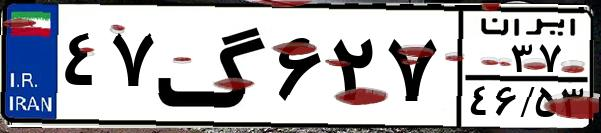2: (330, 28, 385, 110)
3: (560, 70, 590, 125), (508, 27, 537, 80)
4: (57, 26, 110, 100), (470, 70, 495, 125)
5: (535, 70, 560, 125)
6: (270, 28, 330, 110), (495, 70, 520, 125)
7: (385, 28, 445, 110), (110, 28, 156, 98), (537, 27, 568, 80)
گ: (156, 12, 270, 120)
